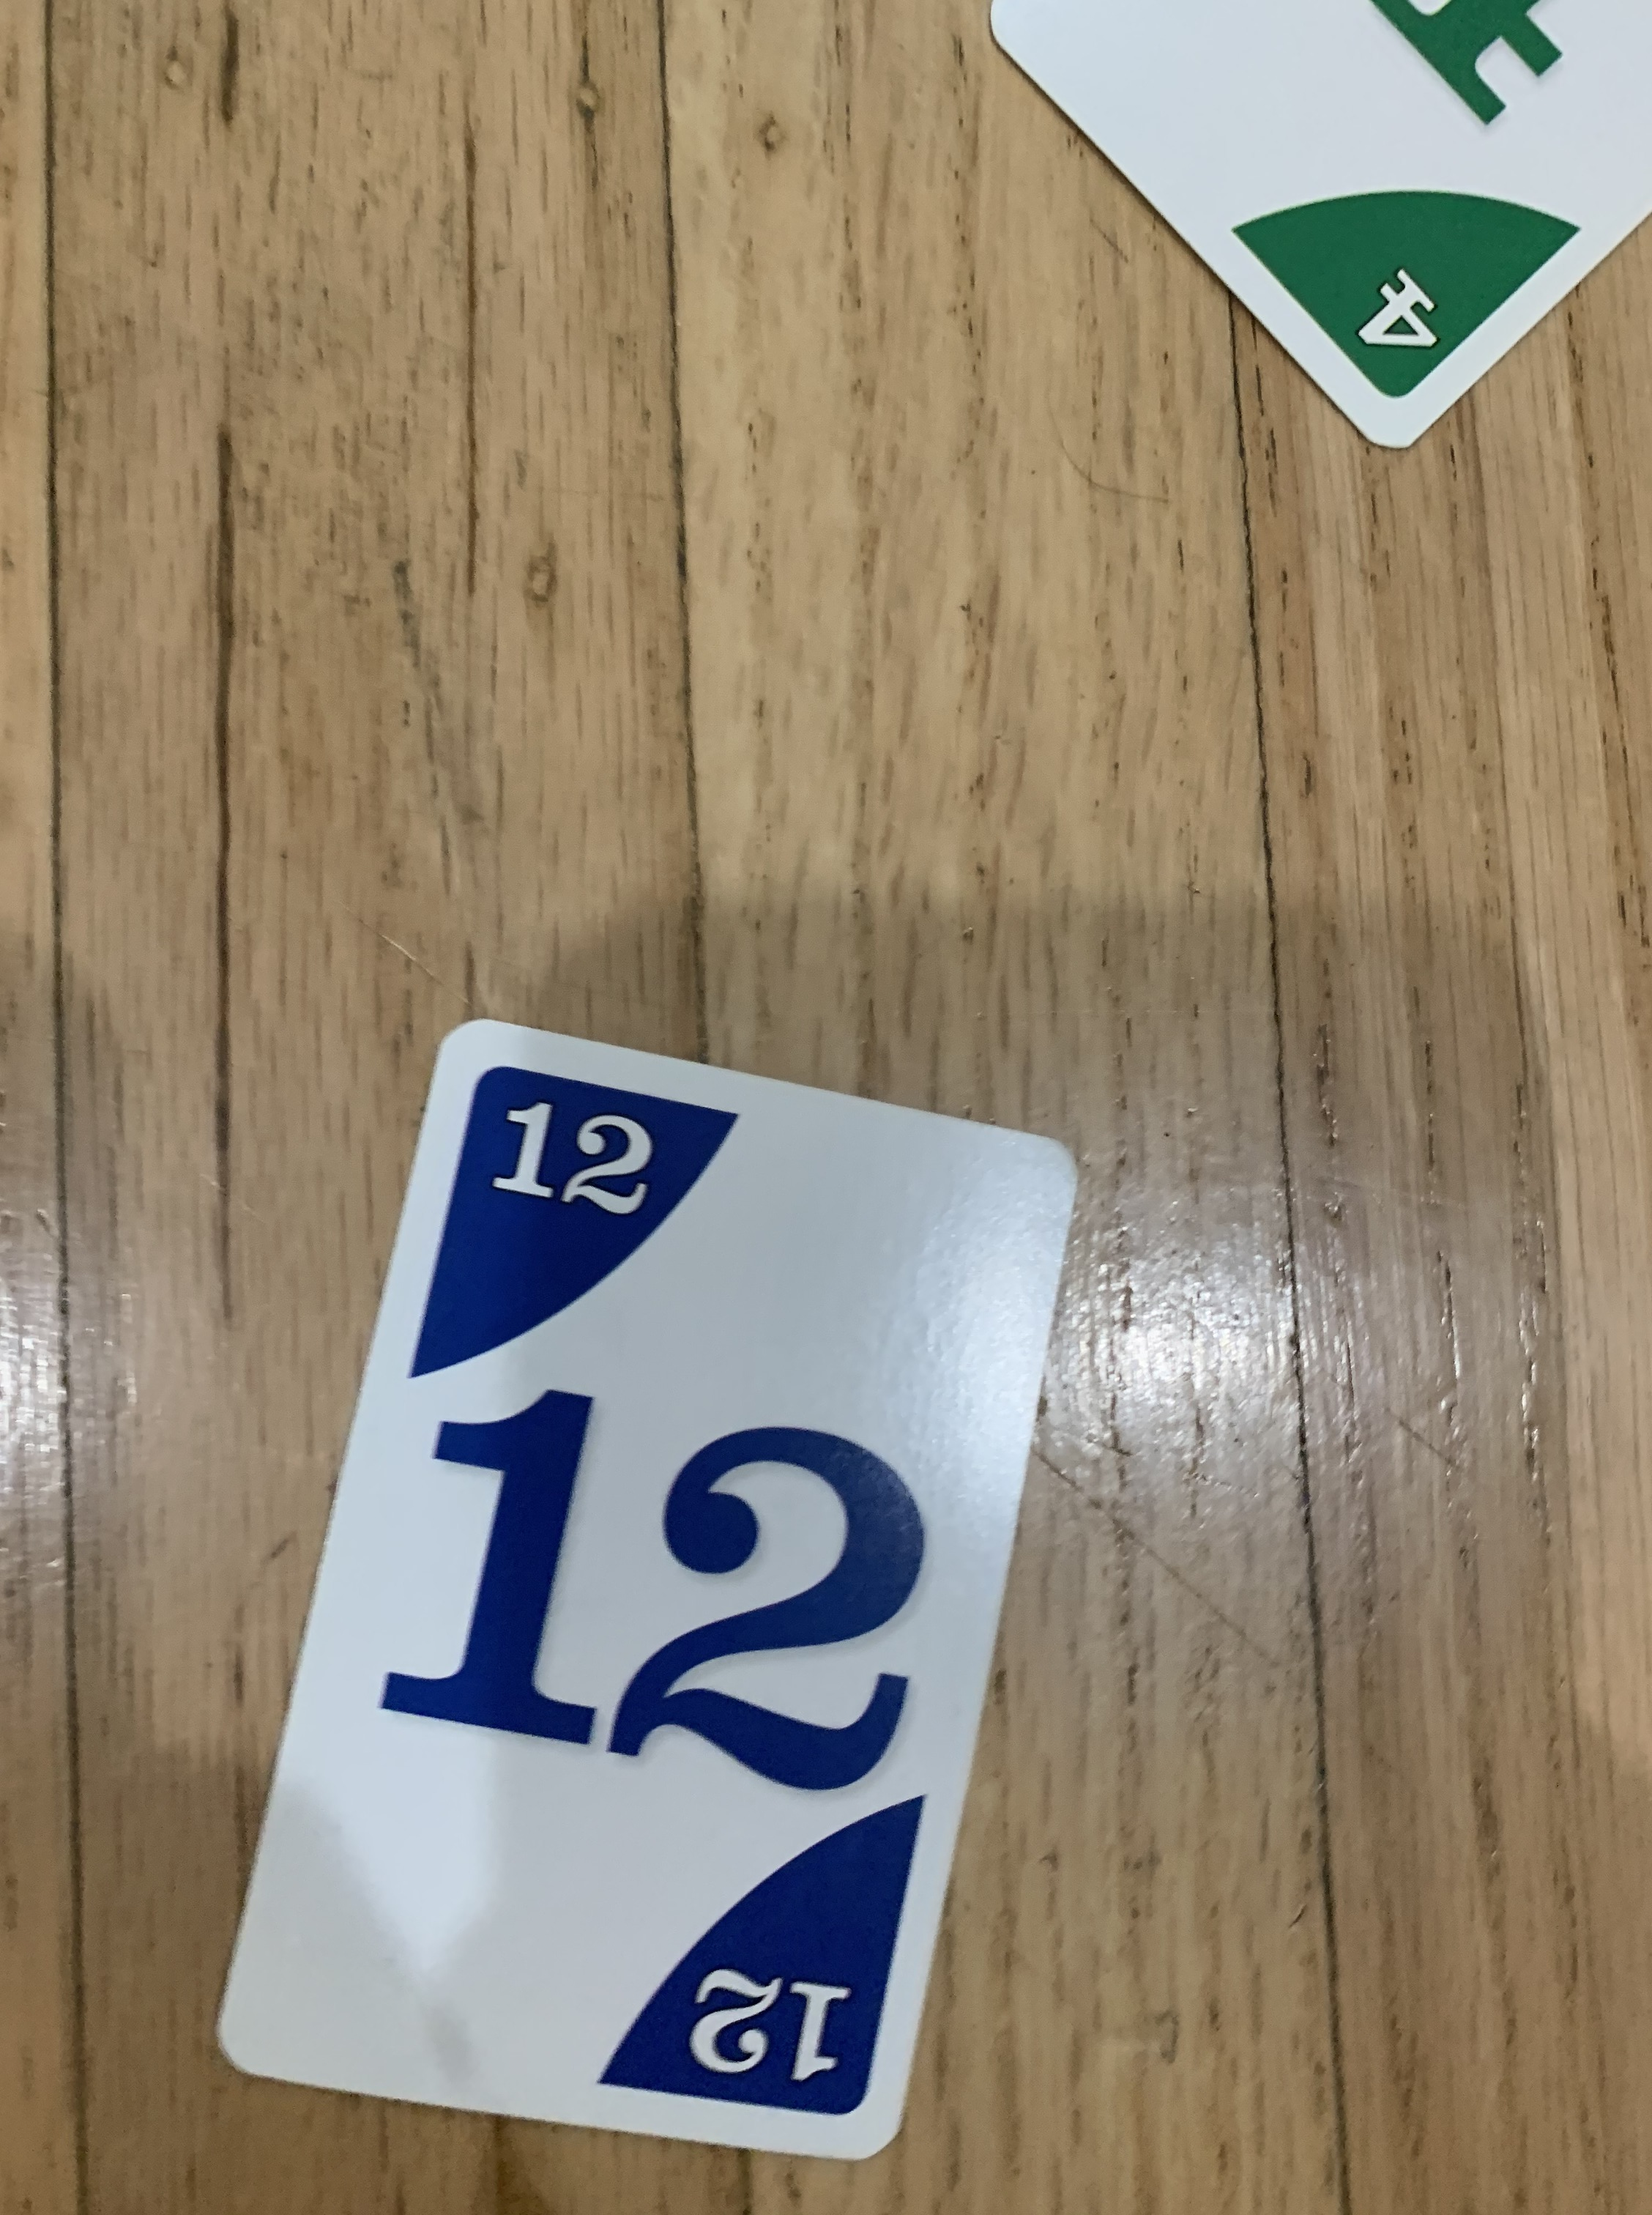twelve: (210, 1007, 1085, 2170)
